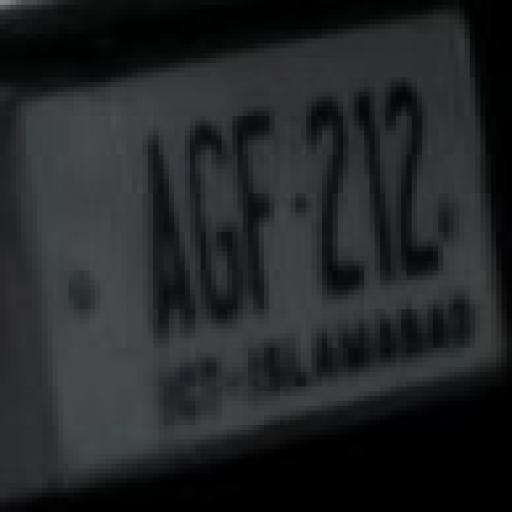1: (358, 88, 396, 290)
2: (384, 72, 442, 282), (301, 96, 356, 300)
A: (138, 124, 196, 345)
F: (232, 111, 290, 316)
G: (186, 120, 247, 330)
